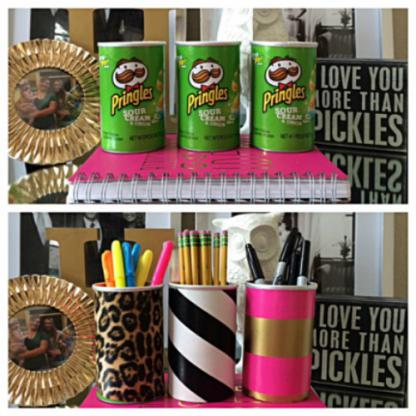potatochip: (246, 37, 321, 153), (172, 39, 244, 153), (96, 41, 166, 153)
